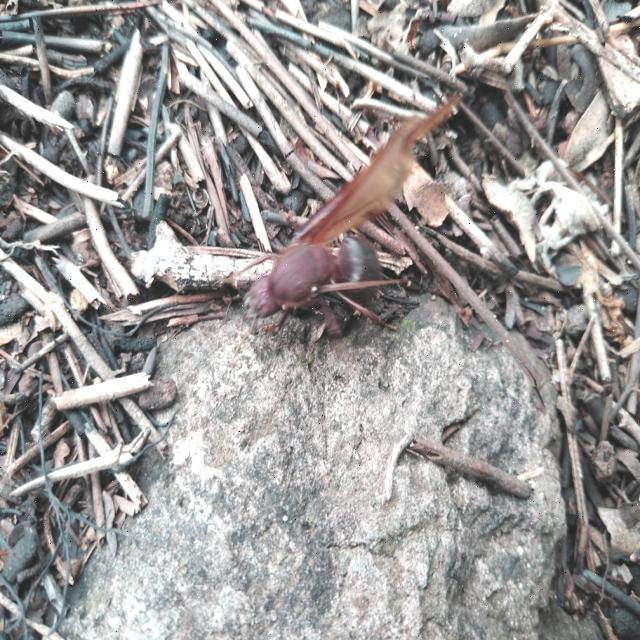Alive-Female-Alate: (226, 95, 461, 362)
